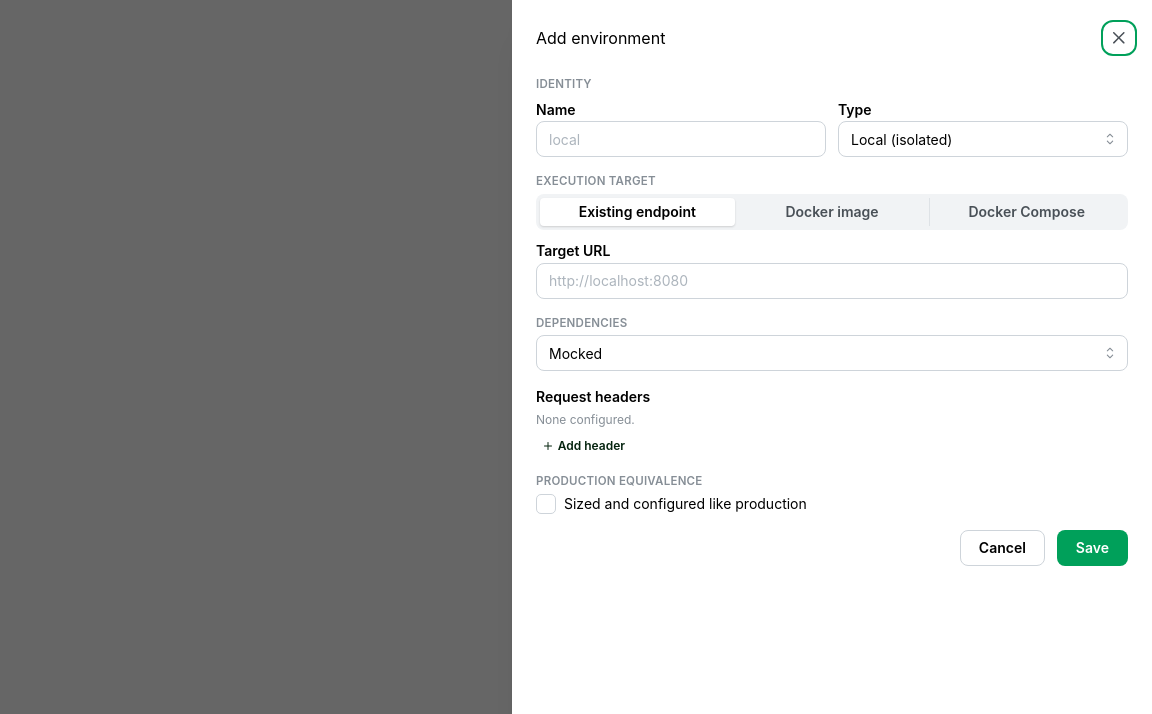
Test case: EnvironmentDrawer › switches to the Docker image fields when that target kind is selected
Click the radio button labelled "Docker image" at (832, 212), box [785,203,879,220]
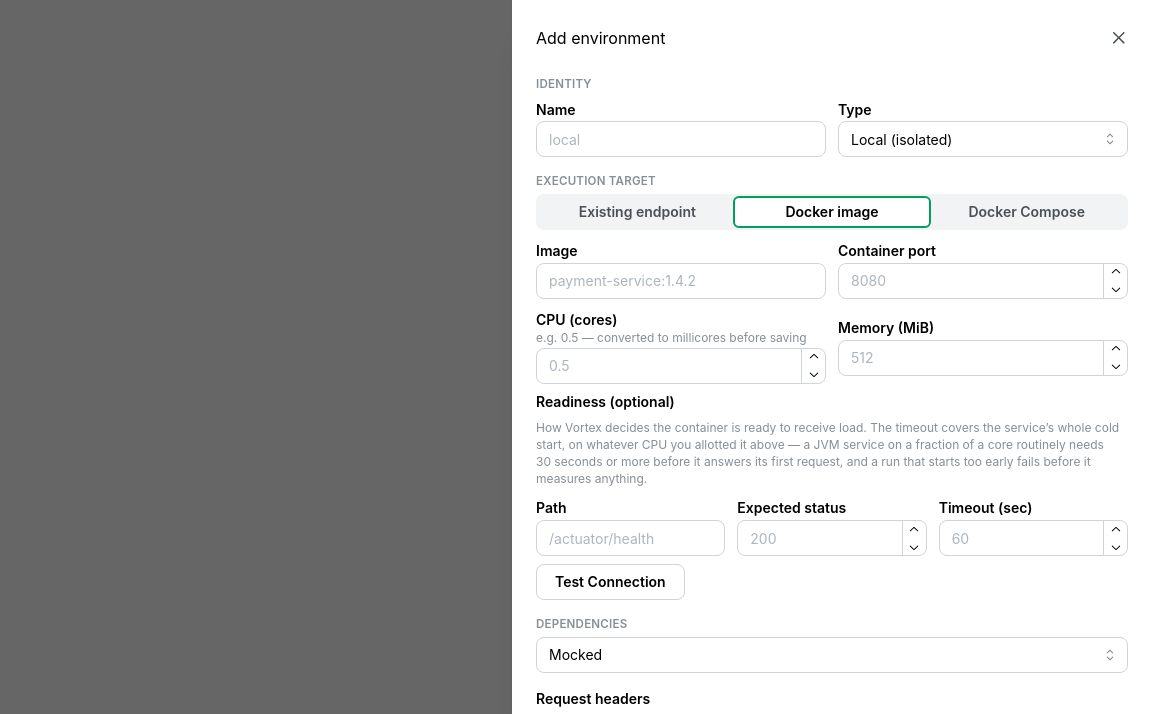
Check: the label labelled "Target URL" is gone
Check: the field labelled "Image" is shown, box [536,263,826,299]
Check: the field labelled "Container port" is shown, box [838,263,1128,299]
